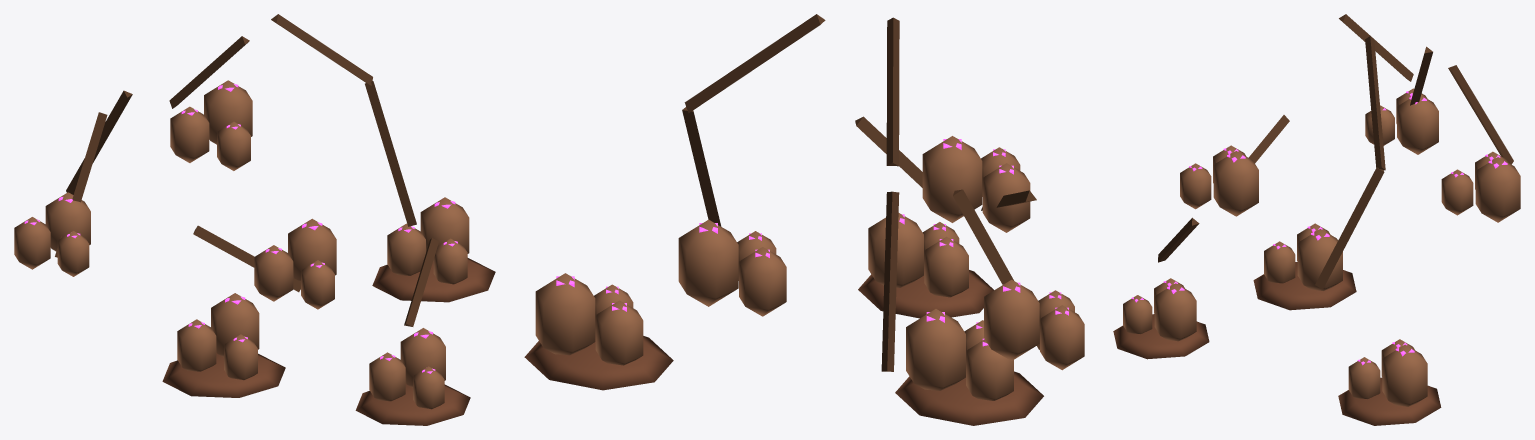
File: overworld-settlement-eggs-oceanian-city.glb
The picture shows the model from 3 angles, left to right: view 1: azimuth 30°, elevation 25°; view 2: azimuth 150°, elevation 25°; view 3: azimuth 270°, elevation 25°; orthographic projection. The views are drawn at different scales.
Parts seen in each view (by area): view 1: settlement_eggs; view 2: settlement_eggs; view 3: settlement_eggs.
Part boxes in pixels (bbox=[...]): settlement_eggs: bbox=[14, 14, 495, 425]; settlement_eggs: bbox=[524, 14, 1084, 425]; settlement_eggs: bbox=[1113, 14, 1520, 425].
Size of the model in its own units: 0.5465 by 0.357 by 0.4535.
